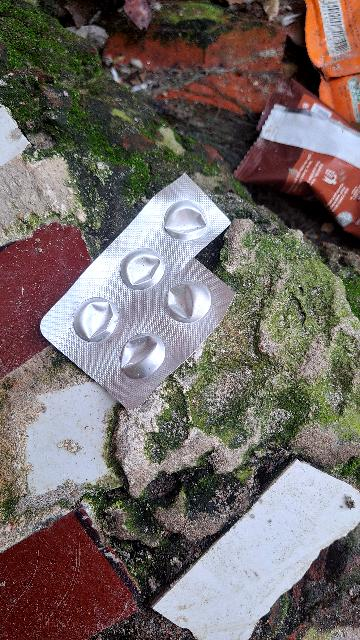medicine: (23, 151, 291, 421)
